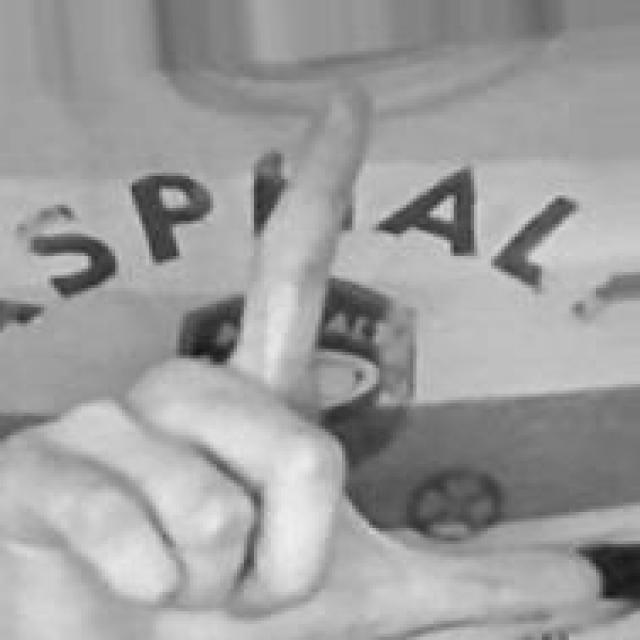L: (0, 74, 613, 637)
